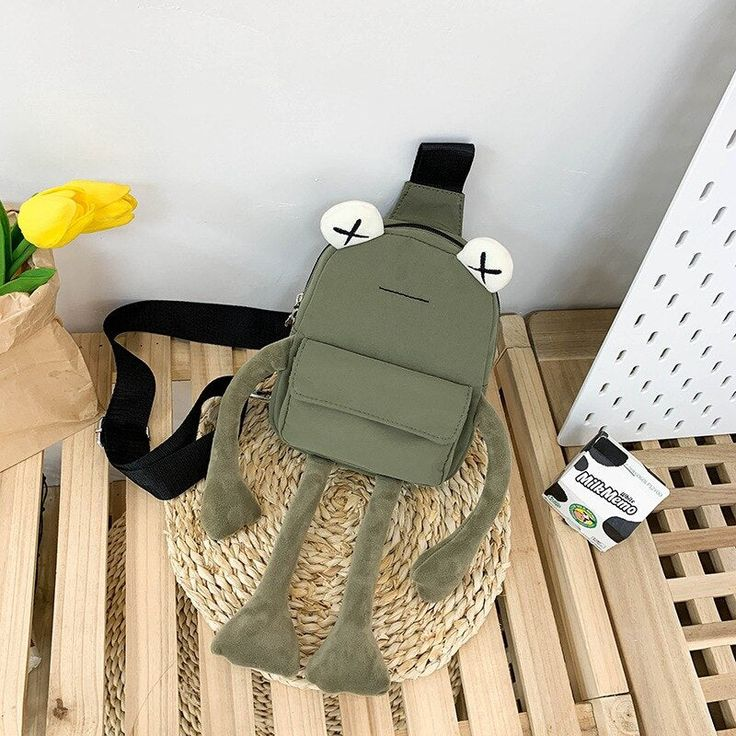nylon: (273, 184, 502, 484)
